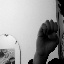e: (35, 19, 60, 52)
